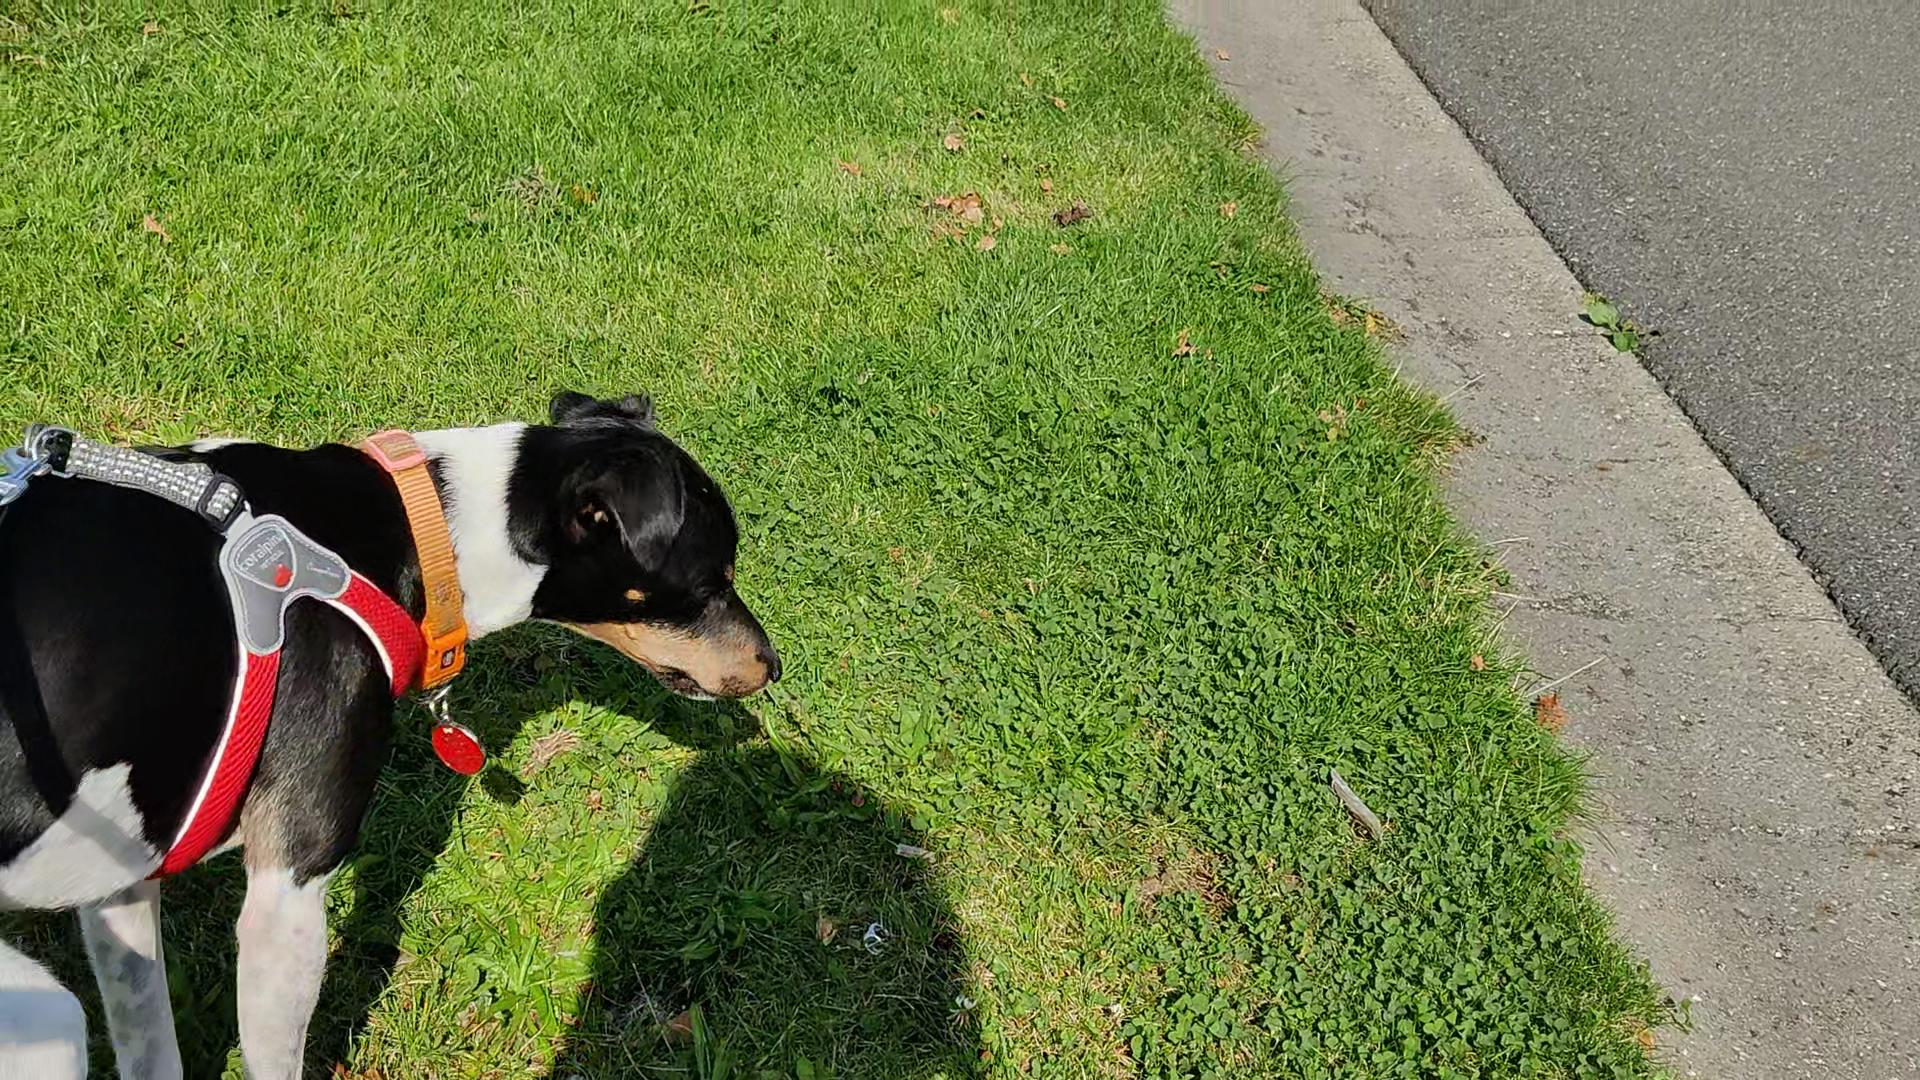Dog: (0, 334, 794, 1079)
